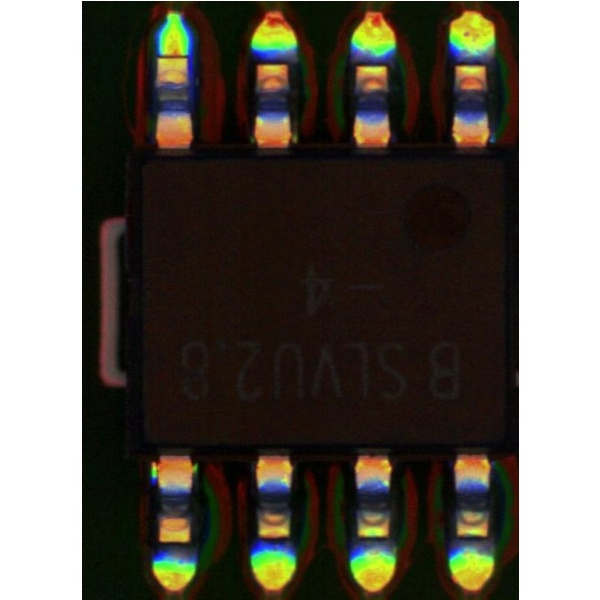Bad_podu: (159, 48, 187, 64)
